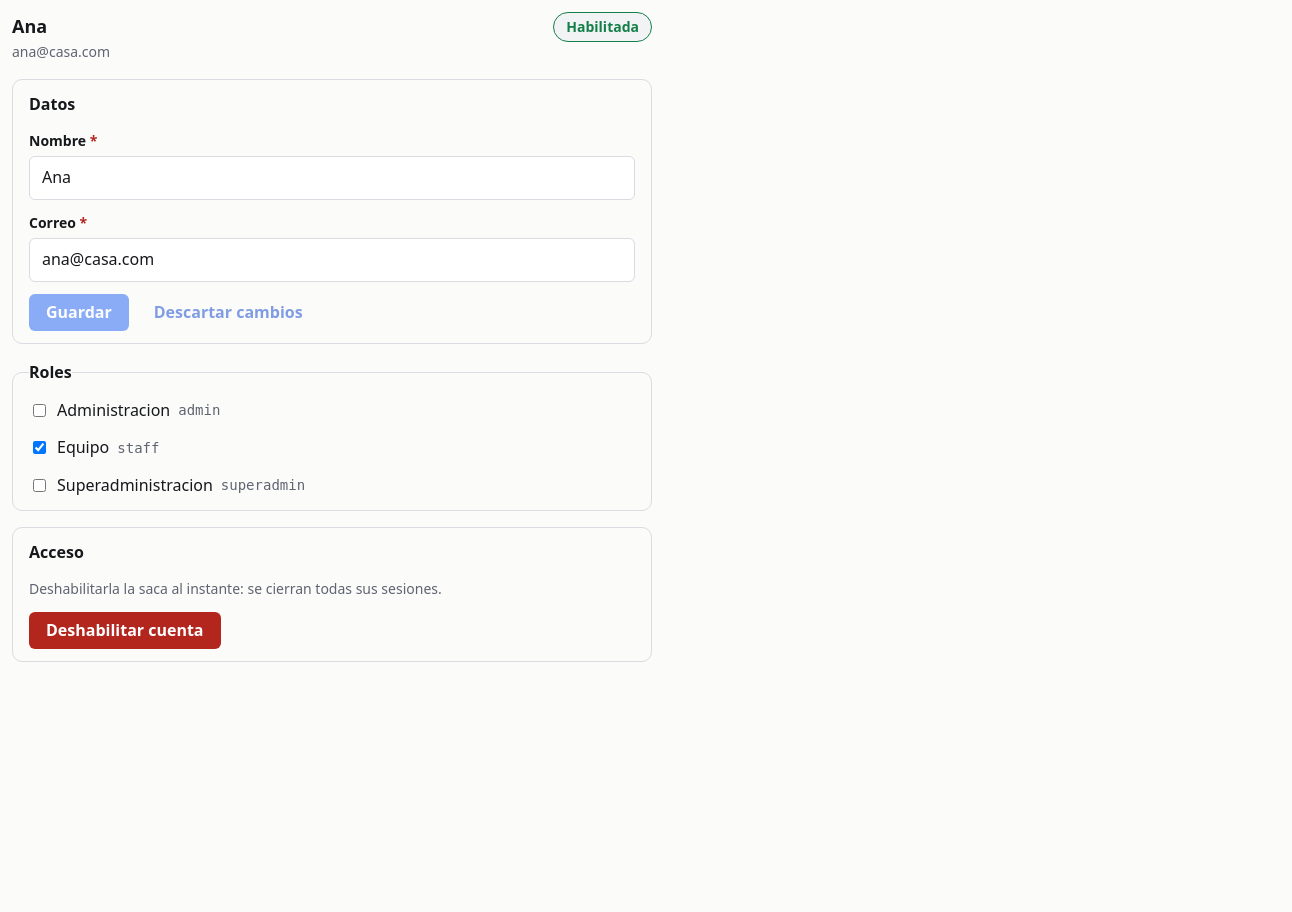
Test case: FichaDeCuenta › guardar manda la version leida y solo correo y nombre
Replace the text in the field labelled "Nombre *" with "Ana Maria": (332, 178) [29,156,635,200]
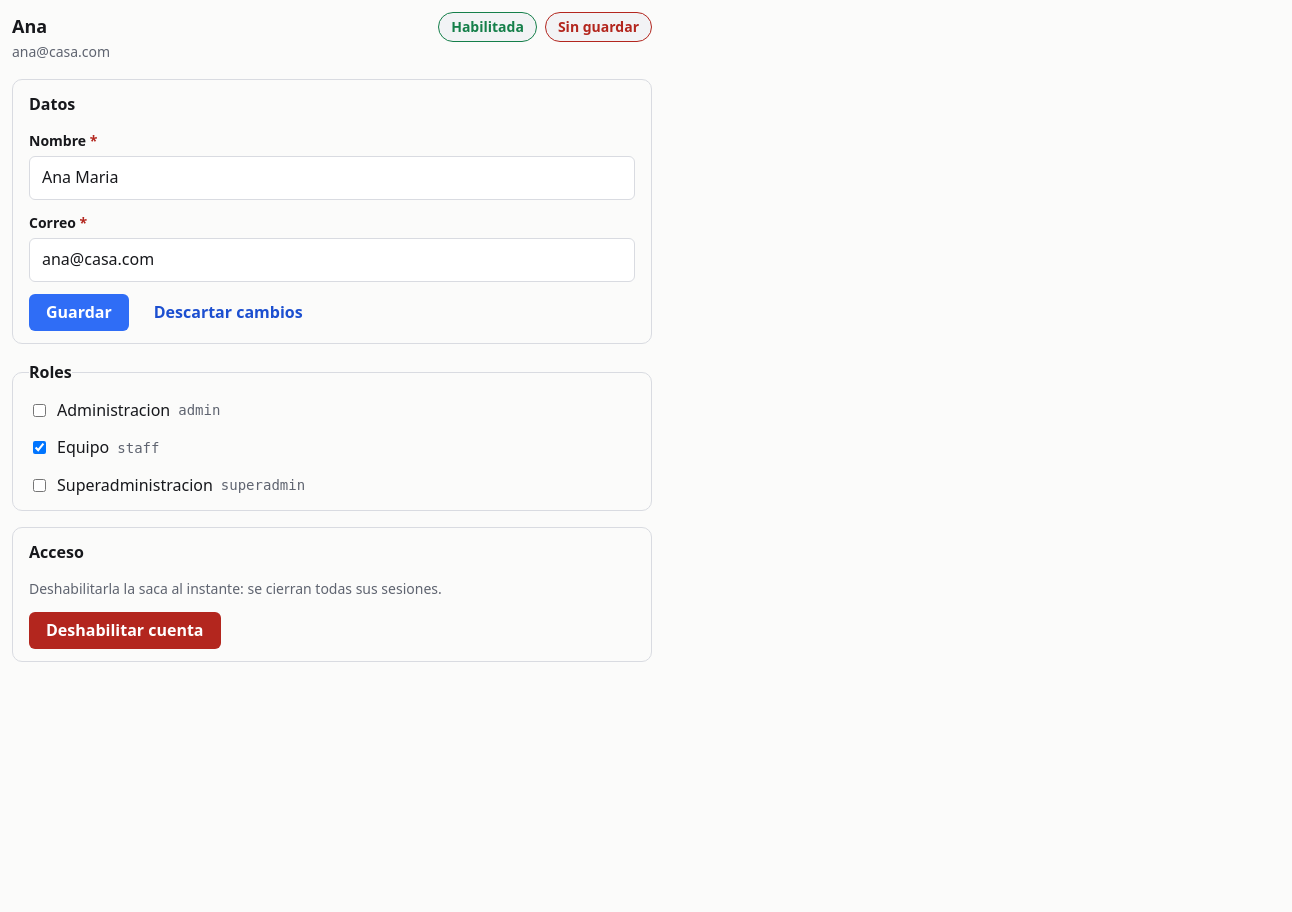
Click the button "Guardar": (79, 312) [29,294,129,331]
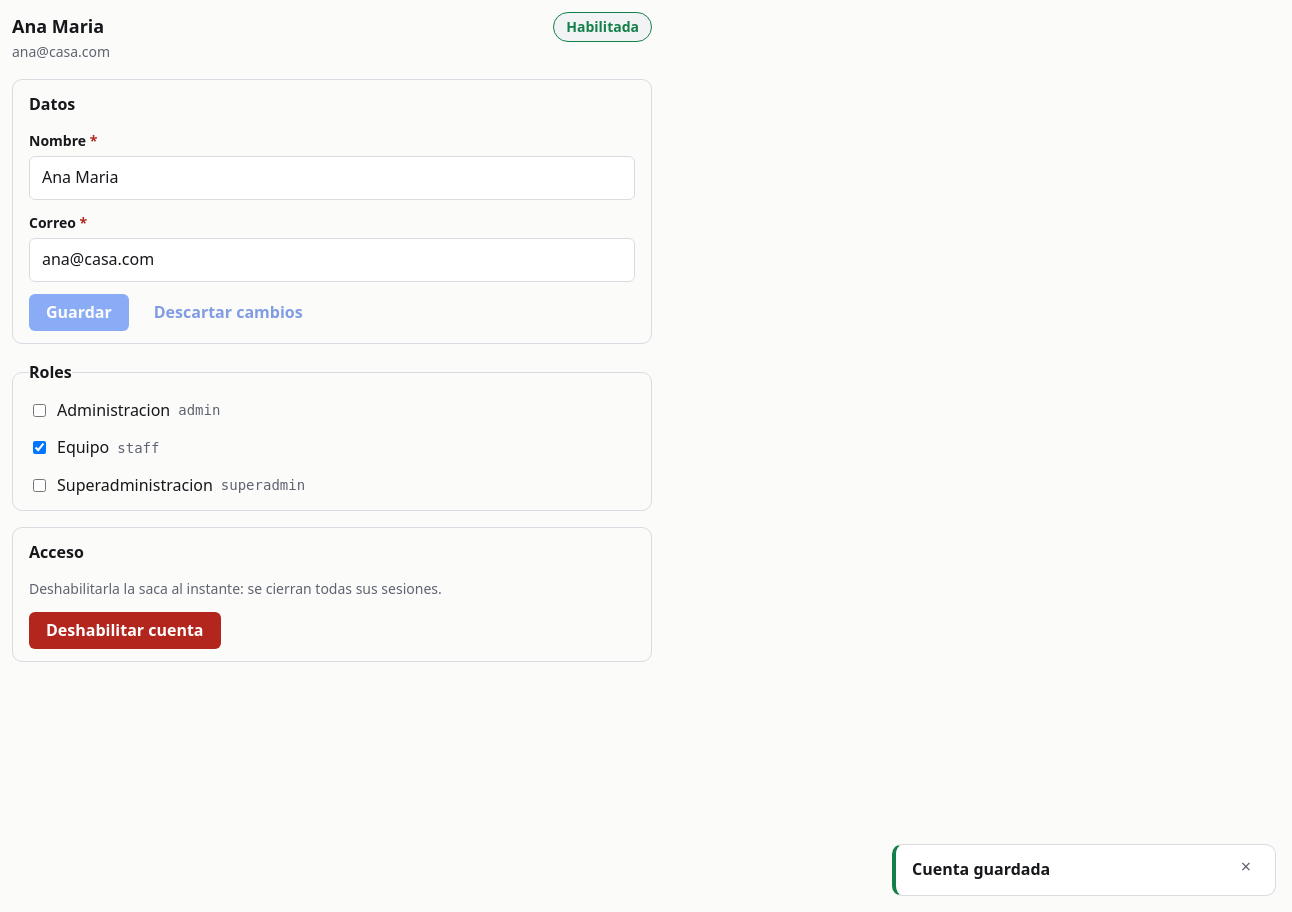
Check: the heading "Ana Maria" is shown, box [12,12,110,41]
